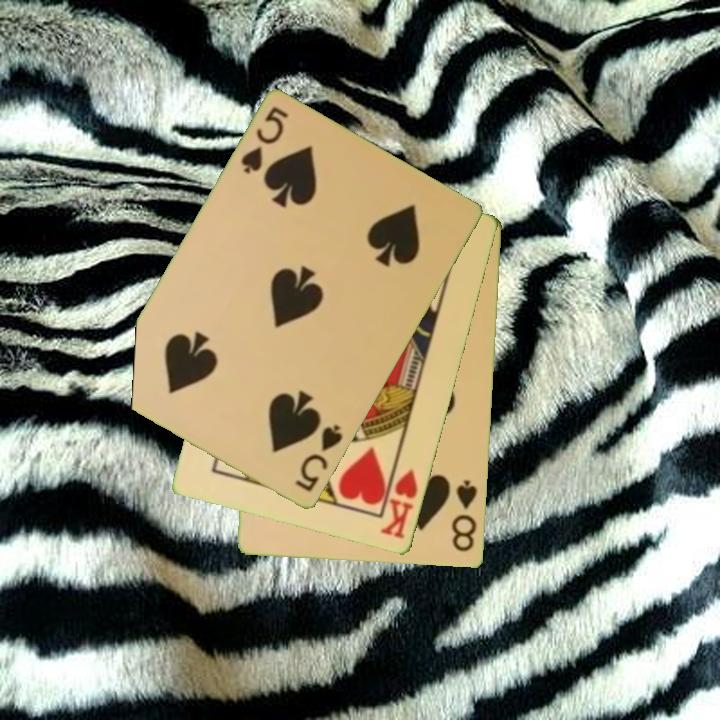5s: (237, 103, 292, 178), (292, 421, 346, 496)
8s: (448, 477, 480, 555)
Kh: (377, 457, 421, 542)
